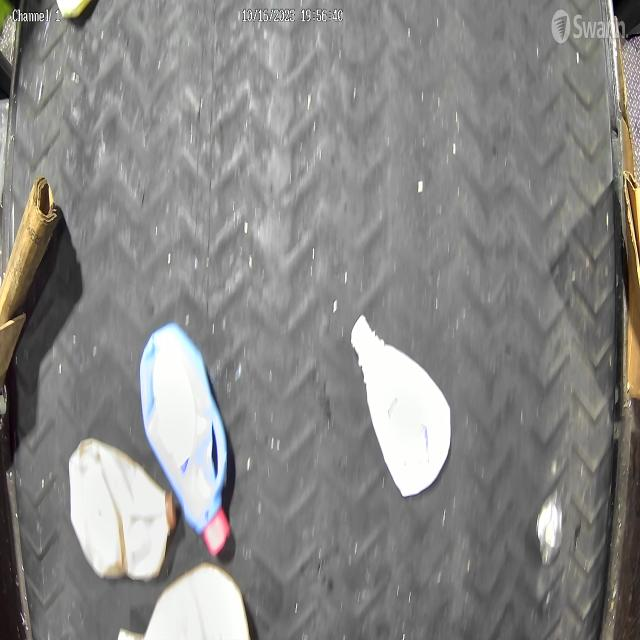can: (532, 498, 566, 574)
milk_jug: (140, 570, 248, 640)
non_white_jug: (138, 319, 238, 557), (66, 430, 174, 589)
